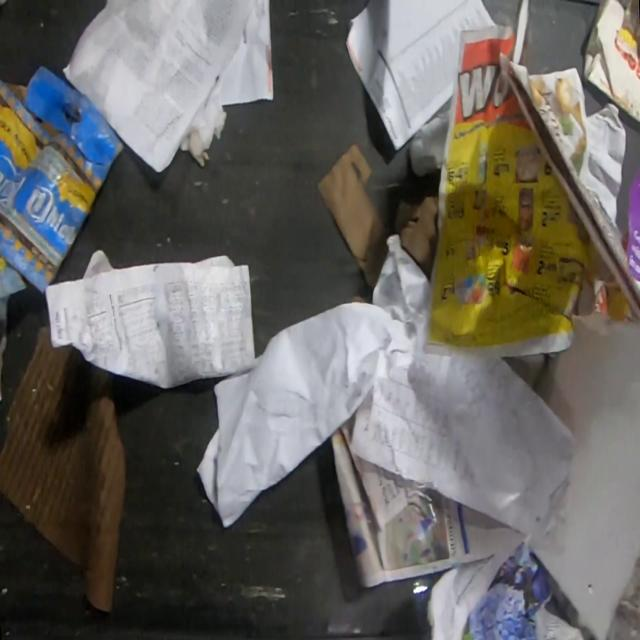cardboard: (0, 325, 128, 611), (0, 65, 124, 294), (318, 139, 439, 297), (582, 15, 640, 122)
